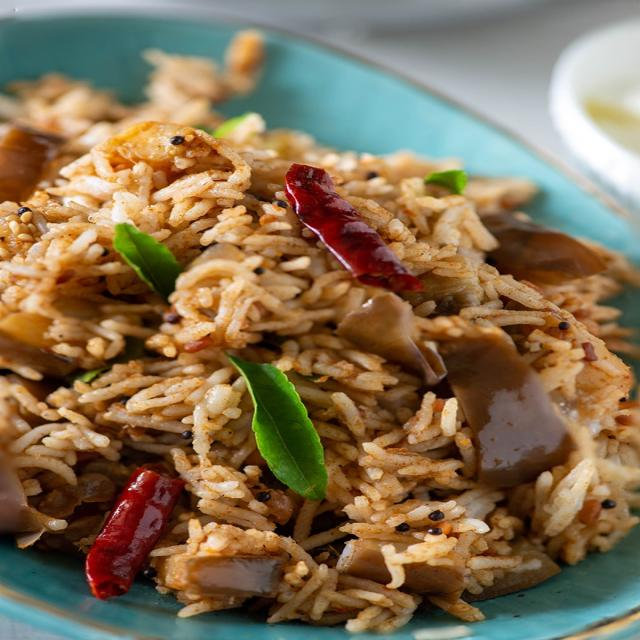vangi bath: (2, 32, 640, 640)
